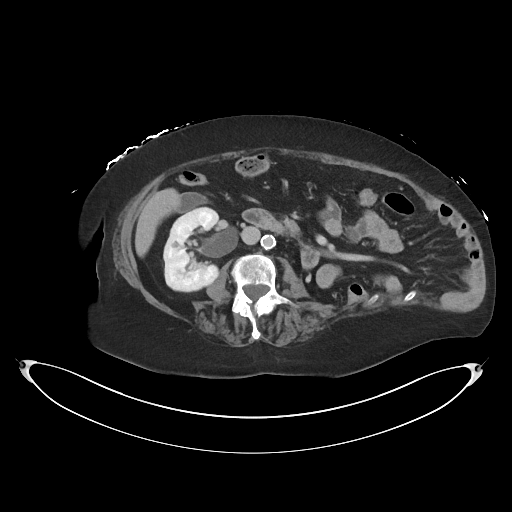Lesion: (167, 238, 181, 251)
